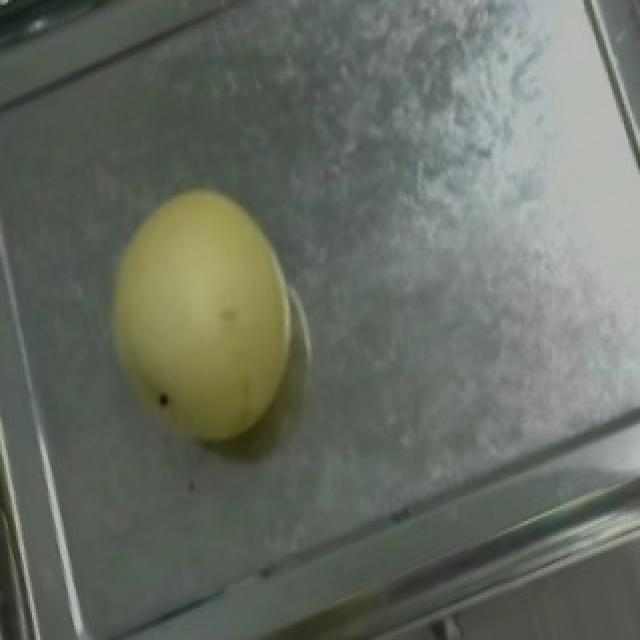Fruit: (72, 159, 340, 476)
